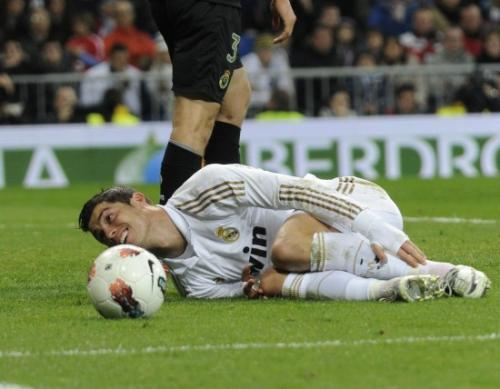10+: (1, 1, 498, 308)
down: (72, 159, 494, 309)
